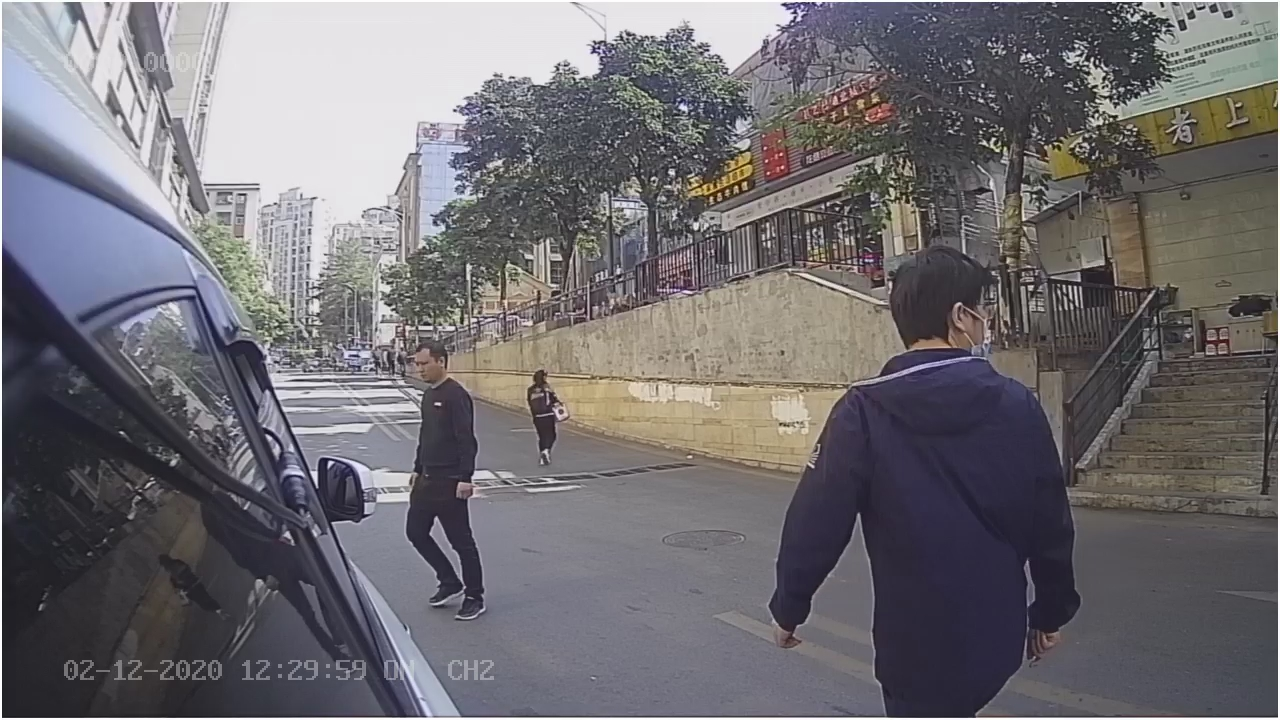person: (753, 240, 1080, 672), (396, 334, 495, 620)
